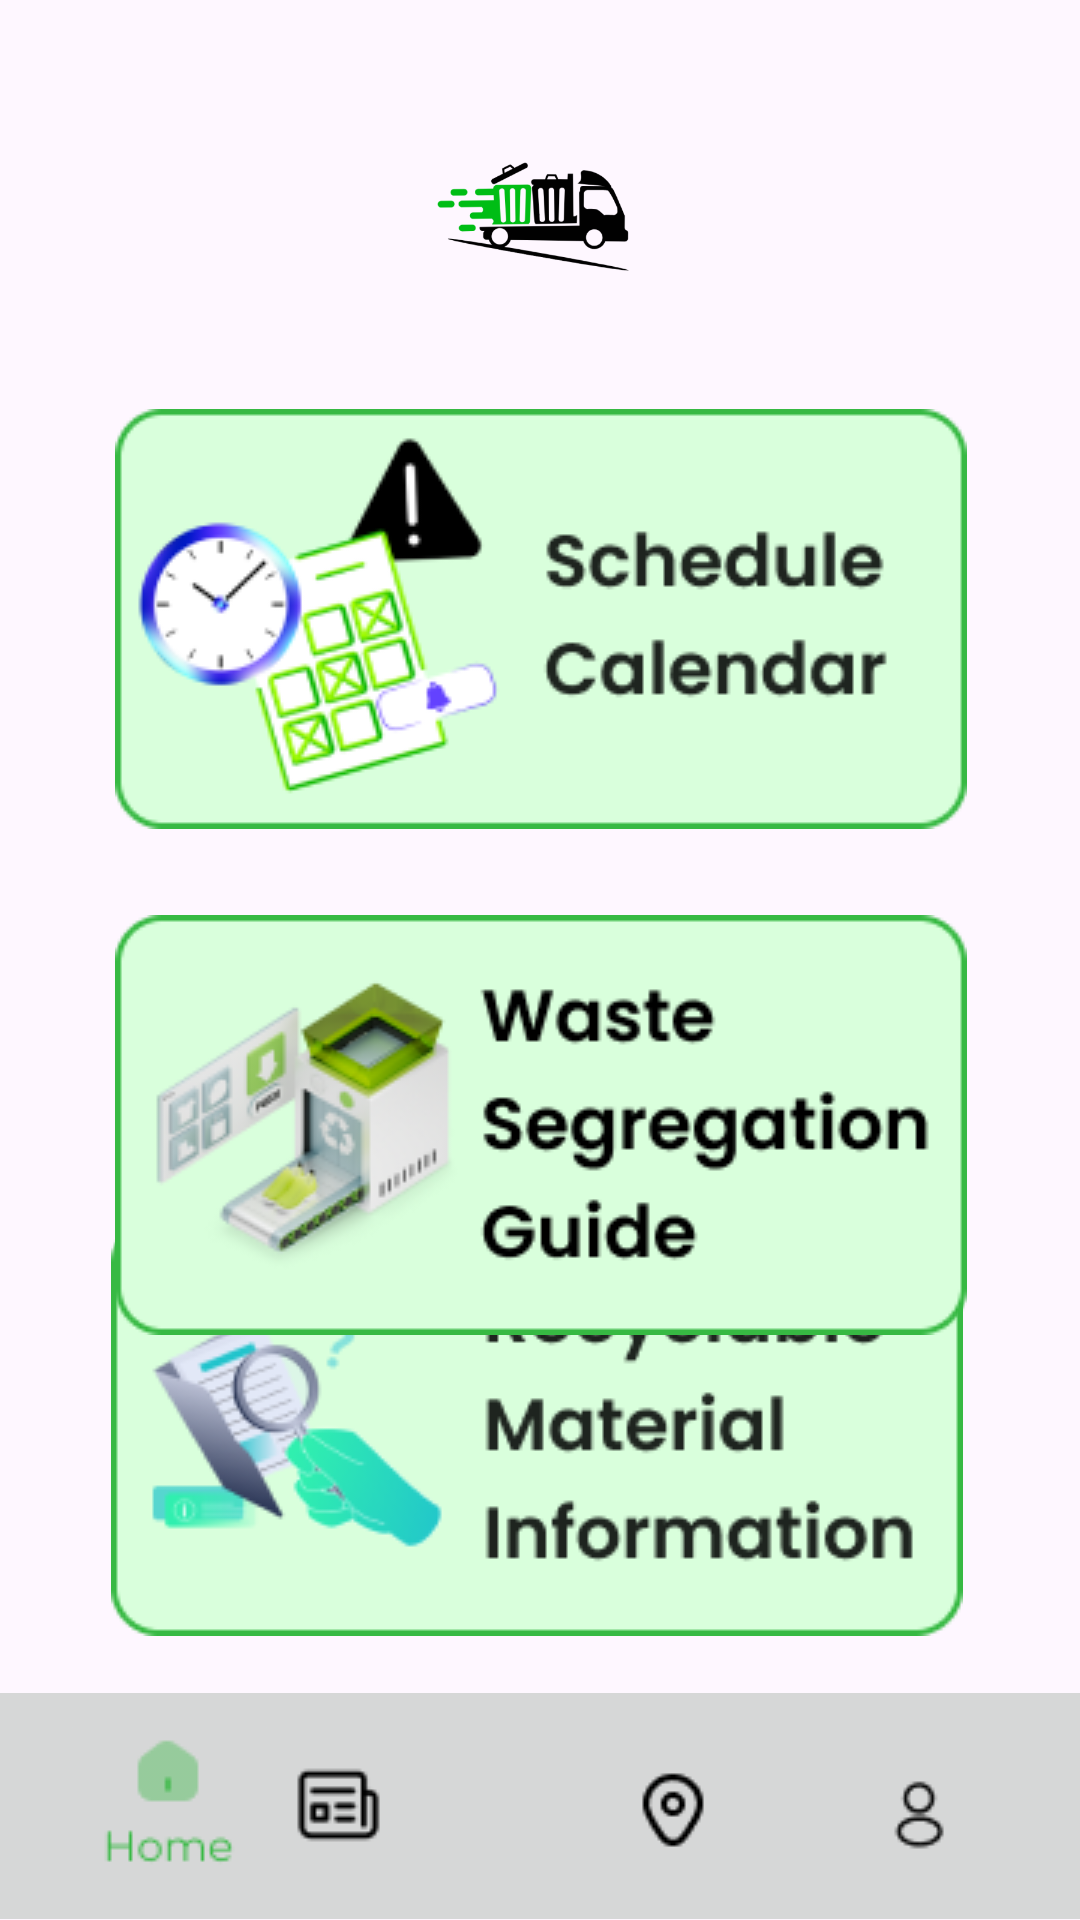

Point at icon controls on the screen. Image size 1080w x 1920h, points as (x=x, y=y).
bulletin: (x=338, y=1805)
map: (x=673, y=1810)
profile: (x=919, y=1815)
